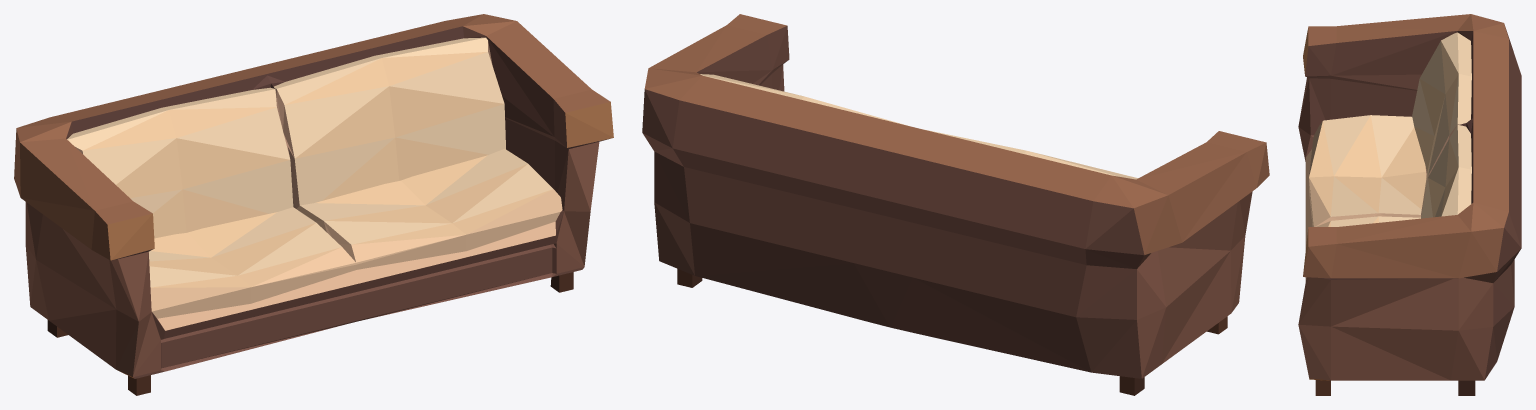
File: sofa.fbx
The picture shows the model from 3 angles, left to right: view 1: azimuth 30°, elevation 25°; view 2: azimuth 150°, elevation 25°; view 3: azimuth 270°, elevation 25°; orthographic projection. The views are drawn at different scales.
Visible parts, largest first — view 1: sofa; view 2: sofa; view 3: sofa.
Part boxes in pixels (x1,y1,x2,y2): sofa: (14, 14, 613, 395); sofa: (642, 14, 1269, 395); sofa: (1298, 14, 1521, 395).
Size of the model in its own units: 193 by 73.91 by 81.49.
